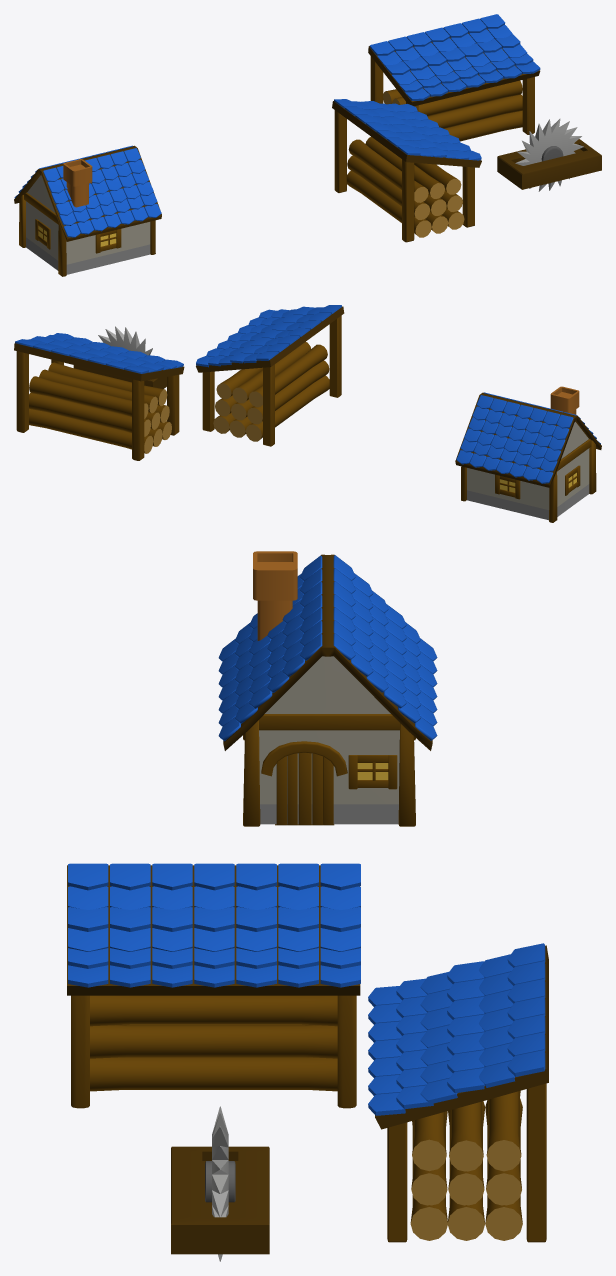
The model's file is LumberMill_BlueTeam.glb.
The picture shows the model from 3 angles, top to bottom: view 1: azimuth 30°, elevation 25°; view 2: azimuth 150°, elevation 25°; view 3: azimuth 270°, elevation 25°; orthographic projection. The views are drawn at different scales.
Parts seen in each view (by area): view 1: LumberMill_BlueTeam, House_Level1_BlueTeam; view 2: LumberMill_BlueTeam, House_Level1_BlueTeam; view 3: LumberMill_BlueTeam, House_Level1_BlueTeam.
Part boxes in pixels (x1=…): LumberMill_BlueTeam: x1=332, y1=14, x2=601, y2=242; House_Level1_BlueTeam: x1=14, y1=145, x2=161, y2=276; LumberMill_BlueTeam: x1=14, y1=305, x2=344, y2=460; House_Level1_BlueTeam: x1=455, y1=386, x2=601, y2=522; LumberMill_BlueTeam: x1=67, y1=863, x2=548, y2=1261; House_Level1_BlueTeam: x1=218, y1=551, x2=437, y2=826.
Bounding box in the file's own units: 60.88 × 14.17 × 24.56.
